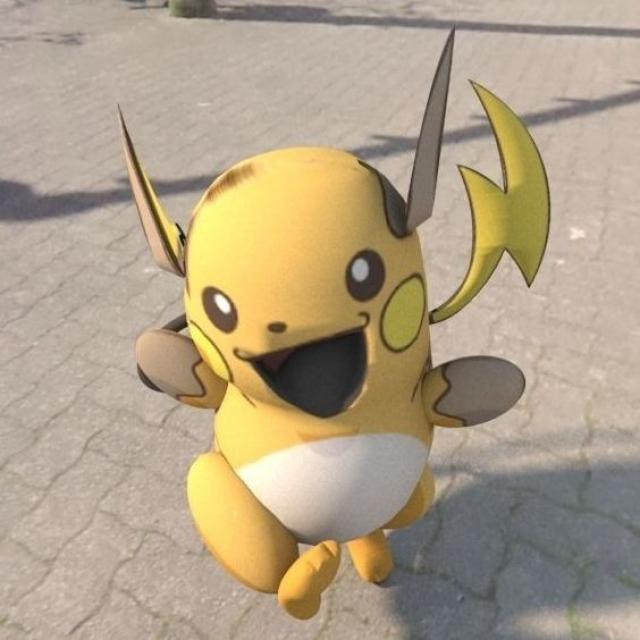Raichu: (118, 103, 536, 621)
